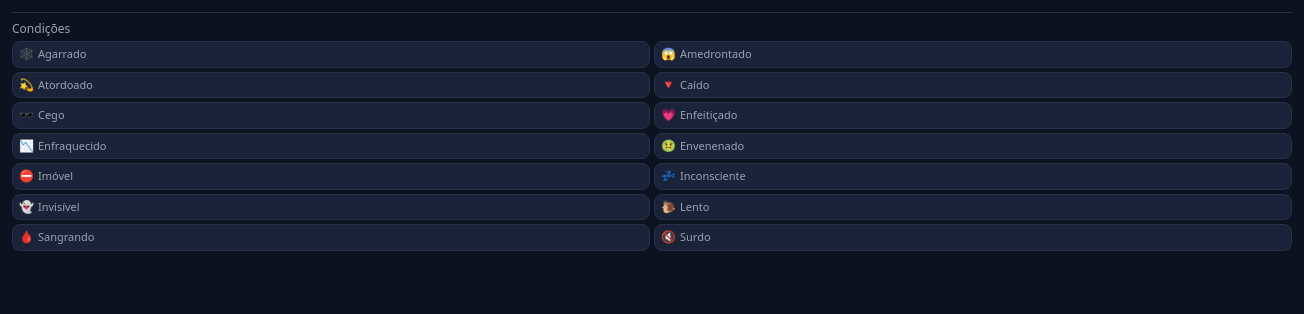
Test: SeletorCondicoes — o catálogo é o ponto de extensão (RV-064) › erro da rota aparece para o mestre em vez de falhar em silêncio
Click the button "🔻 Caído": coordinates (668, 84) [654,72,1292,98]
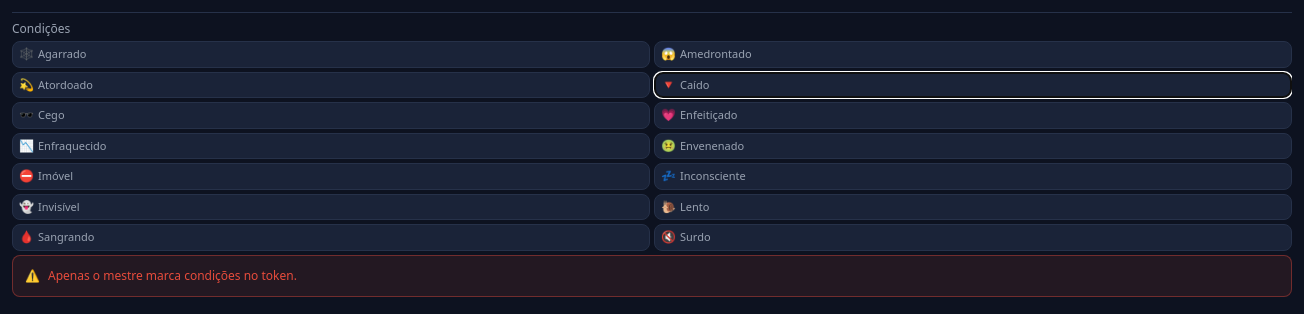
Result: the text "Apenas o mestre marca condições no token." is shown at [48,268,297,284]
